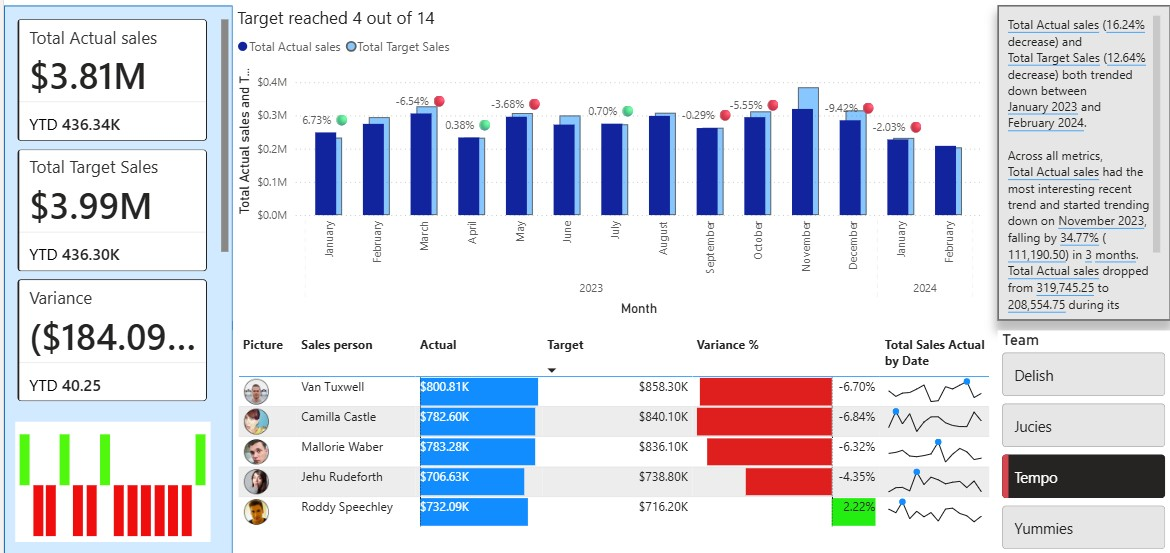

The page's visual inventory and layout, read from the dashboard file:
{"tool":"powerbi","page":{"name":"Page 1","canvas":[1280,720],"ordinal":0},"visuals":[{"type":"shape","box":[0,118,251.1,602.4],"z":0},{"type":"cardVisual","fields":{"Data":["Actual.Total Actual sales","Actual.Total Target Sales","Actual.Variance","Actual.variance % display","Actual.months target reached"]},"box":[0,118,251.1,456.9],"z":1000},{"type":"clusteredColumnChart","fields":{"Category":["Calendar.Date.Variation.Date Hierarchy.Year","Calendar.Date.Variation.Date Hierarchy.Month"],"Y":["Actual.Total Actual sales","Actual.Total Target Sales"]},"box":[251.1,118,827.4,345.8],"z":2000},{"type":"tableEx","fields":{"Values":["dimPeople.Picture","dimPeople.Sales person","Actual.Total Actual sales","Actual.Total Target Sales","Actual.Variance %","SparklineData(Actual.Total Actual sales_[Calendar.Date])"]},"box":[251.1,474.8,839.8,245.6],"z":3000},{"type":"textbox","box":[1090.9,118,189.4,345.8],"z":5000},{"type":"clusteredColumnChart","fields":{"Y":["Actual.target status"],"Category":["Calendar.Date"]},"box":[12.3,575,214.1,131.7],"z":6000},{"type":"advancedSlicerVisual","fields":{"Values":["dimPeople.Team"]},"box":[1090.9,474.8,189.4,245.6],"z":6001}]}

Visuals, with their boxes on the page's 1280x720 design canvas (x1, y1, x2, y2). These are canvas units, not pixel positions in the 1170x553 screenshot, which may show the page scaled, cropped or inside an application window:
shape: [x1=0, y1=118, x2=251, y2=720]
cardVisual - Actual.Total Actual sales x Actual.Total Target Sales: [x1=0, y1=118, x2=251, y2=575]
clusteredColumnChart - Calendar.Date.Variation.Date Hierarchy.Year x Calendar.Date.Variation.Date Hierarchy.Month: [x1=251, y1=118, x2=1078, y2=464]
tableEx - dimPeople.Picture x dimPeople.Sales person: [x1=251, y1=475, x2=1091, y2=720]
textbox: [x1=1091, y1=118, x2=1280, y2=464]
clusteredColumnChart - Actual.target status x Calendar.Date: [x1=12, y1=575, x2=226, y2=707]
advancedSlicerVisual - dimPeople.Team: [x1=1091, y1=475, x2=1280, y2=720]
